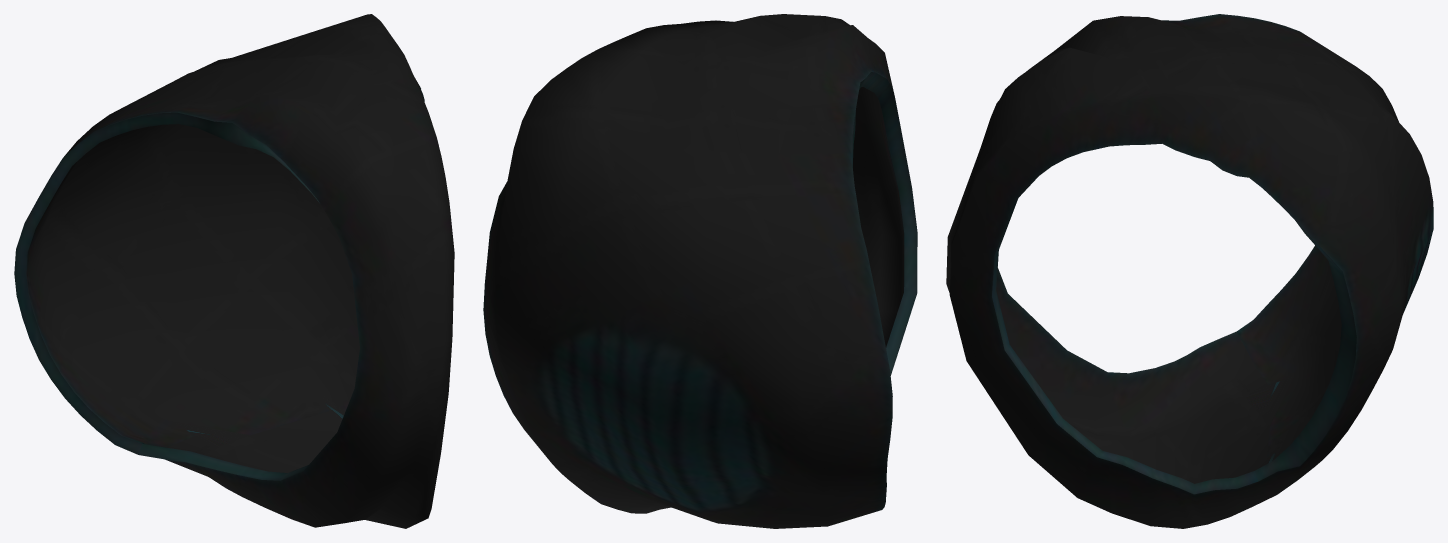
The picture shows the model from 3 angles, left to right: view 1: azimuth 30°, elevation 25°; view 2: azimuth 150°, elevation 25°; view 3: azimuth 270°, elevation 25°; orthographic projection. The views are drawn at different scales.
Visible parts, largest first — view 1: elbow_belt_R; view 2: elbow_belt_R; view 3: elbow_belt_R.
Part boxes in pixels (<box>): elbow_belt_R: <box>14,14,454,528</box>; elbow_belt_R: <box>483,14,917,528</box>; elbow_belt_R: <box>946,14,1433,528</box>.
Bounding box in the file's own units: 14.69 × 16.84 × 16.57.
Materials: 1 (1 with a texture image).
